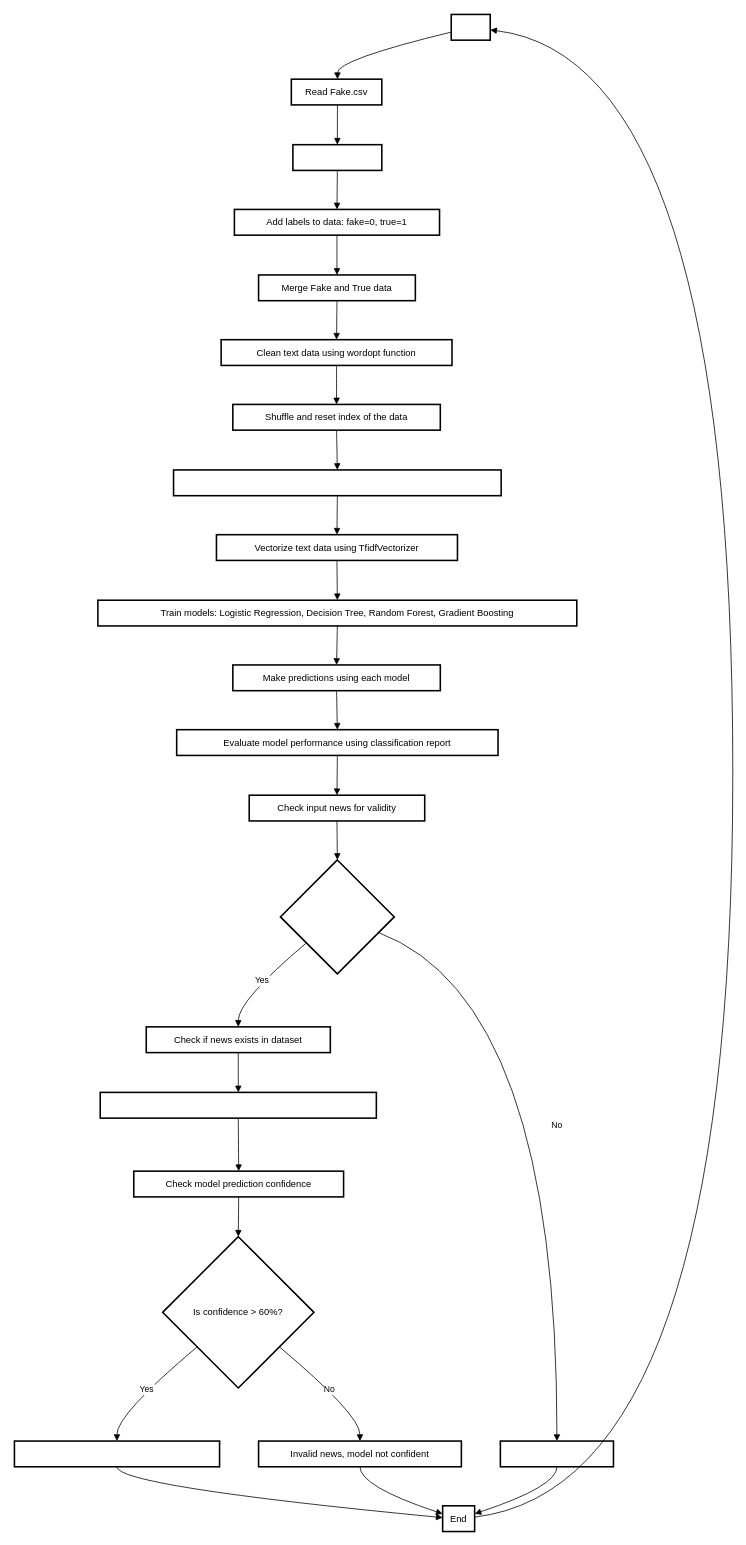
This 746x1545 diagram has some shape labels left out. Each missing label, with the box of its shape:
Invalid news input: (499, 1440, 614, 1467)
Is news valid?: (279, 859, 395, 974)
Output predictions for each model: (13, 1440, 220, 1467)
Read True.csv: (292, 144, 382, 171)
Run manual testing on input news using models: (99, 1091, 377, 1119)
Split data into training and test sets: 70% train, 30% test: (172, 469, 502, 496)
Start: (450, 13, 491, 41)
